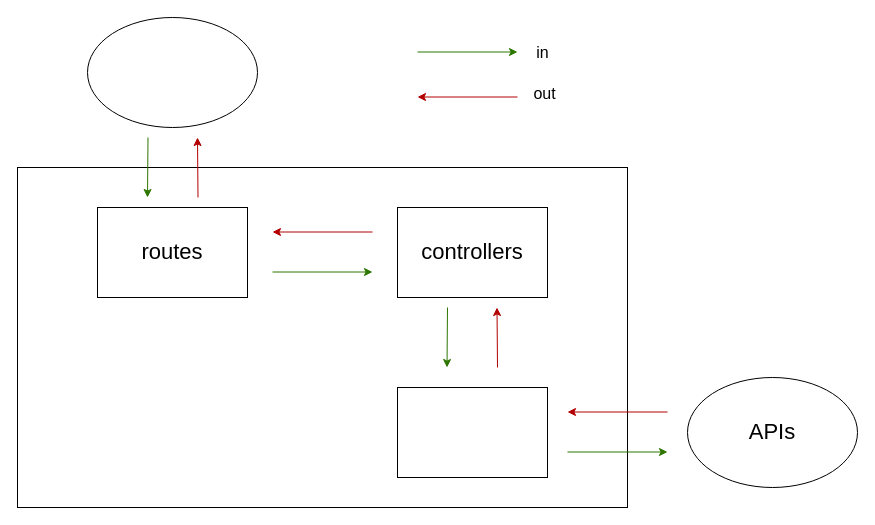
The diagram is 875 pixels wide and 525 high, and some of its shapes have lost their labels. The shapes that lost their labels are listed below. From the top down, each one's centre as x and y in pixels, then its label:
the point at 172,72: Client
the point at 472,432: gateways
